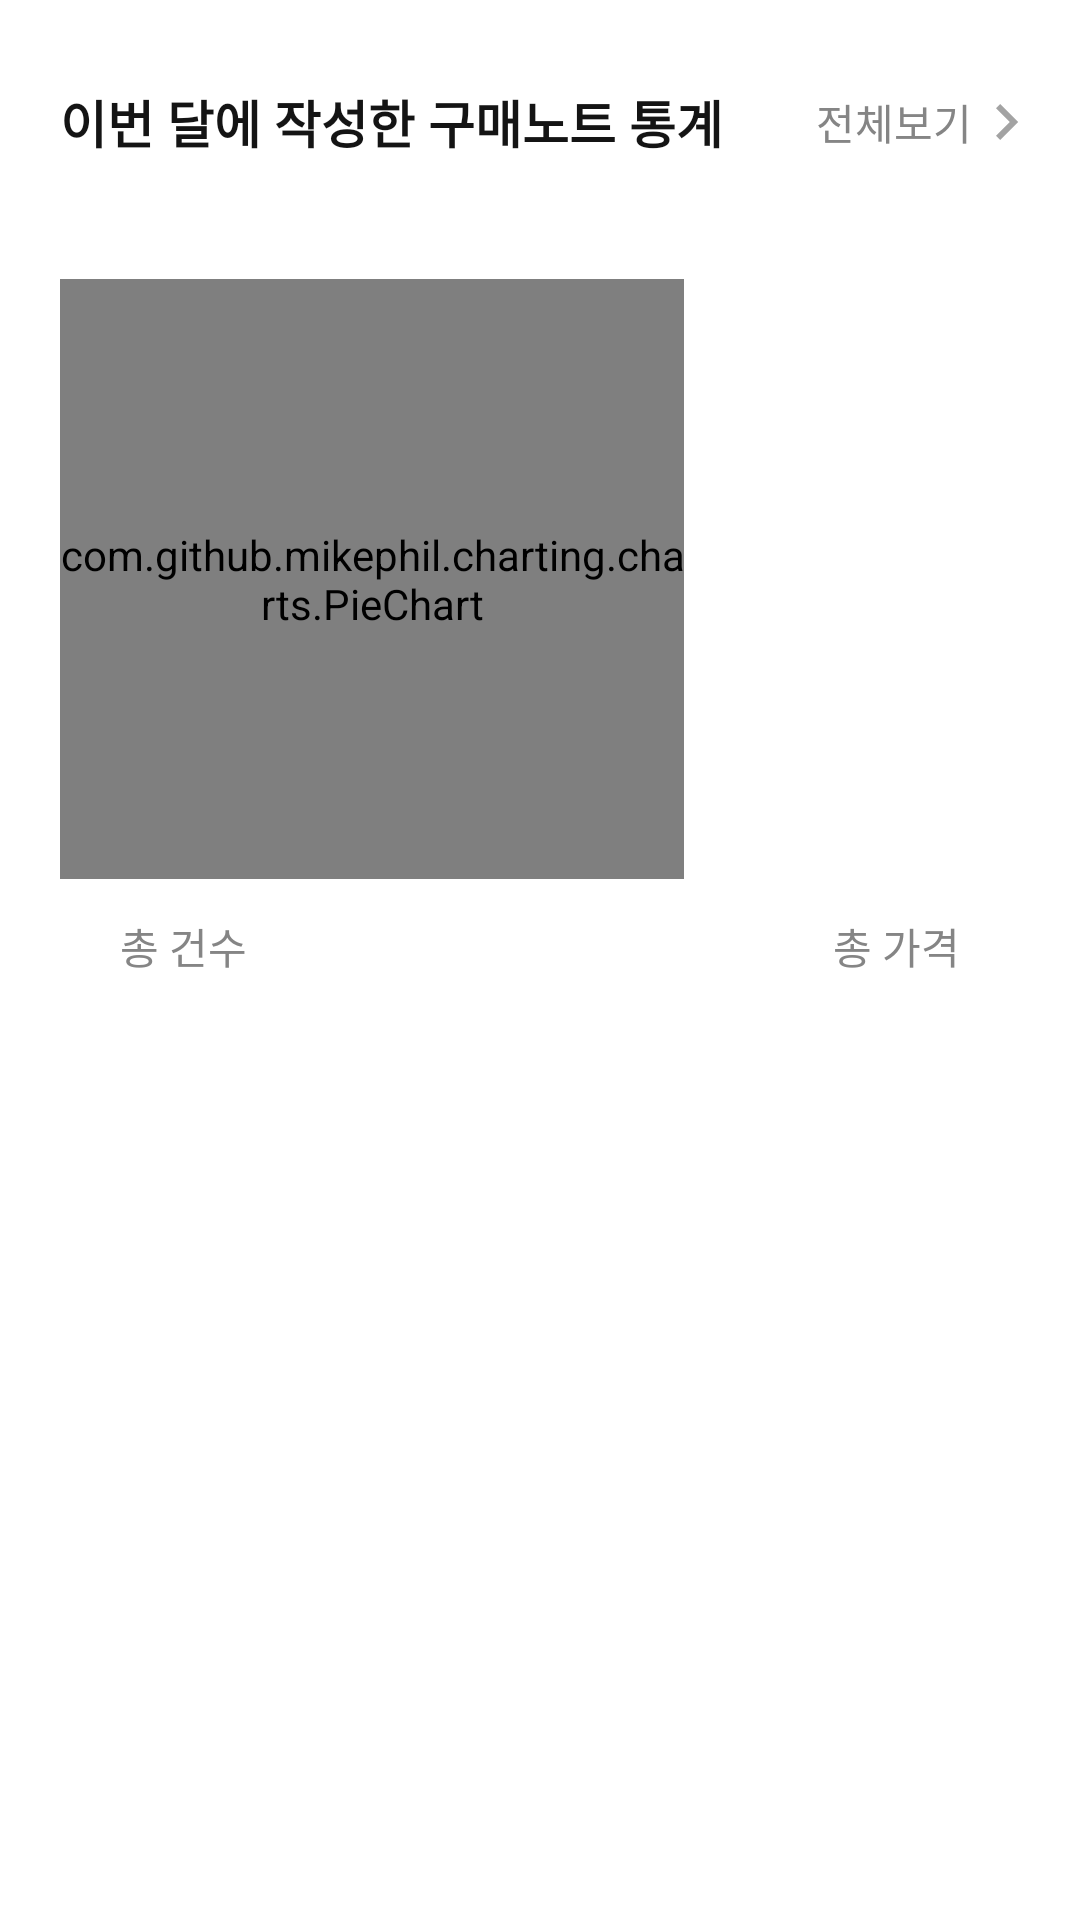

Named icons in this screenshot (1080 x 1920) and their centers, (x=x, y=y):
chevron right: (x=1007, y=122)
